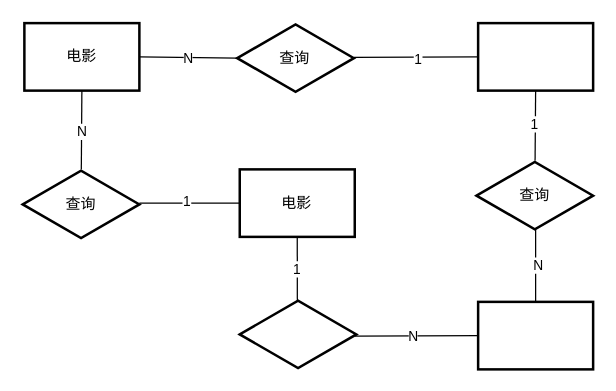
Image size: 616x391. Some labels were removed from this diagram. The box of each missing label's shape, as (x1, y1, x2, y2) in pixels:
用户: (476, 21, 594, 91)
电影分类: (476, 300, 594, 370)
管理: (238, 298, 357, 370)
